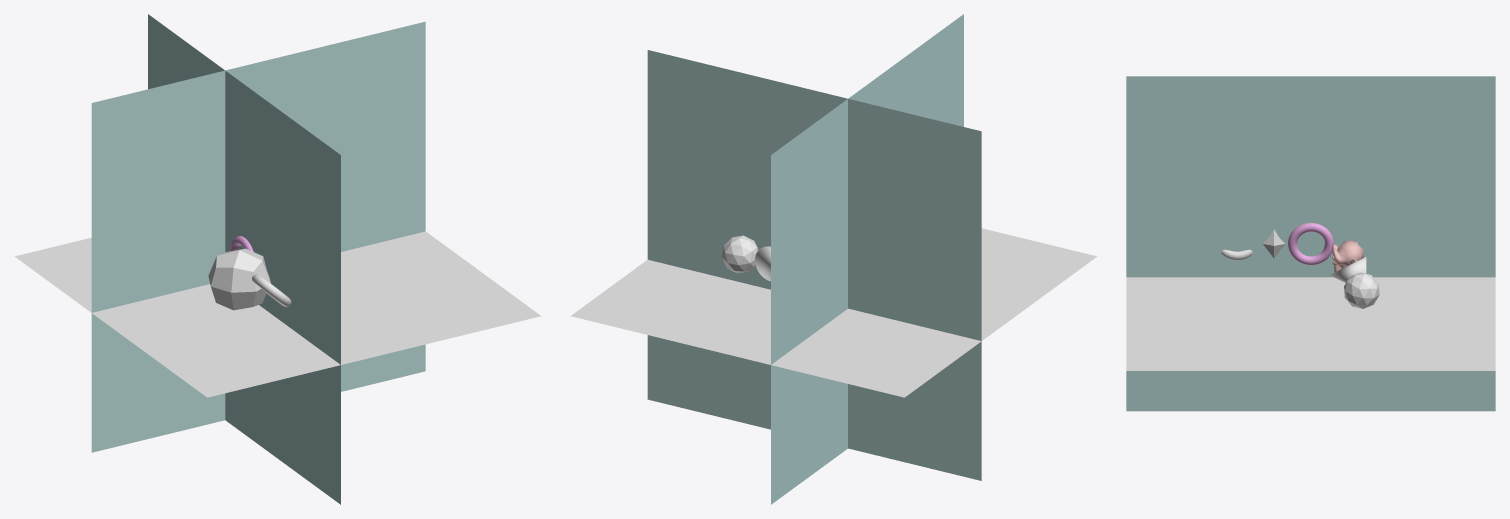
Rendered from room_no_lights.glb.
3 views of the same model, side by side, from view 1: azimuth 30°, elevation 25°; view 2: azimuth 150°, elevation 25°; view 3: azimuth 270°, elevation 25° (orthographic). The views are drawn at different scales.
Visible parts, largest first — view 1: Plane, Plane.001, Plane.002, Cube; view 2: Plane, Plane.001, Plane.002, Icosphere; view 3: Plane.001, Plane.002, Torus, Icosphere, Suzanne, Cone.
Part boxes in pixels (left/top/right/bottom): Plane: left=91, top=21, right=425, bottom=452; Plane.001: left=148, top=14, right=340, bottom=504; Plane.002: left=14, top=231, right=541, bottom=397; Cube: left=208, top=248, right=270, bottom=310; Plane: left=647, top=50, right=981, bottom=480; Plane.001: left=771, top=14, right=963, bottom=504; Plane.002: left=570, top=228, right=1097, bottom=397; Icosphere: left=722, top=235, right=758, bottom=273; Plane.001: left=1126, top=76, right=1495, bottom=411; Plane.002: left=1126, top=277, right=1495, bottom=370; Torus: left=1288, top=223, right=1333, bottom=265; Icosphere: left=1344, top=272, right=1379, bottom=308; Suzanne: left=1332, top=240, right=1363, bottom=272; Cone: left=1330, top=257, right=1366, bottom=282.
Bounding box in the file's own units: 10 × 10 × 10.
